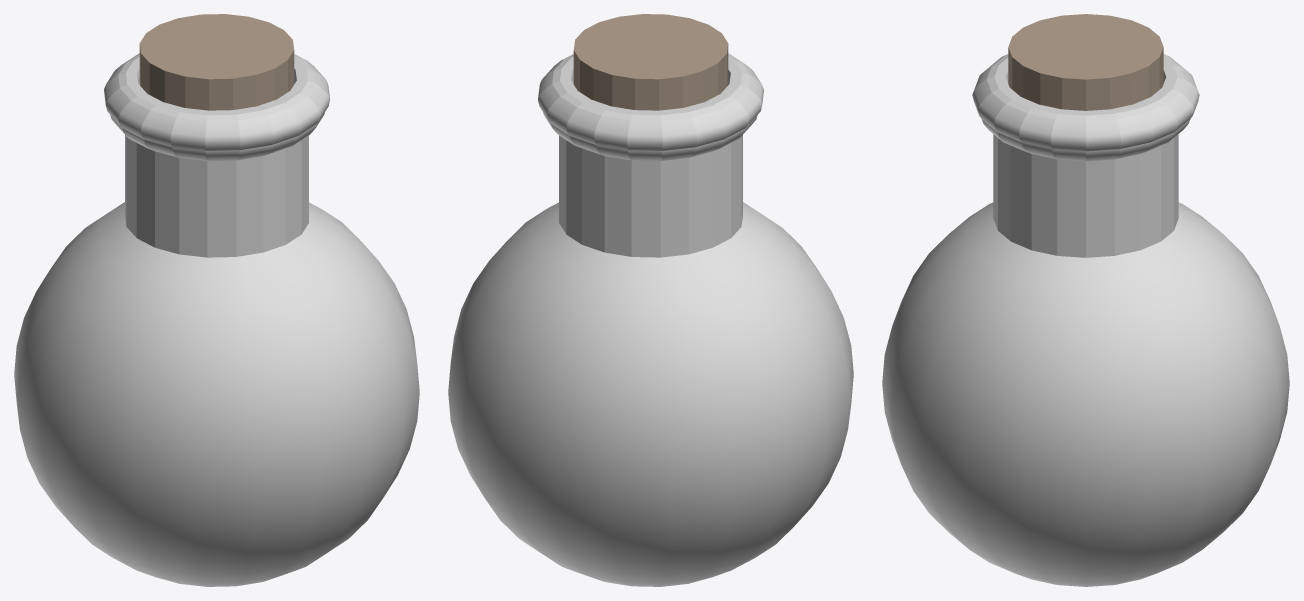
File: Potion_1.fbx
3 renders of one model, left to right at view 1: azimuth 30°, elevation 25°; view 2: azimuth 150°, elevation 25°; view 3: azimuth 270°, elevation 25°, orthographic.
Visible parts, largest first — view 1: Potion1; view 2: Potion1; view 3: Potion1.
Boxes of the visible parts, x1,y1,x2,y2 form: Potion1: [14, 14, 419, 586]; Potion1: [448, 14, 853, 586]; Potion1: [882, 14, 1289, 586].
Bounding box in the file's own units: 76.21 × 106 × 76.21.
